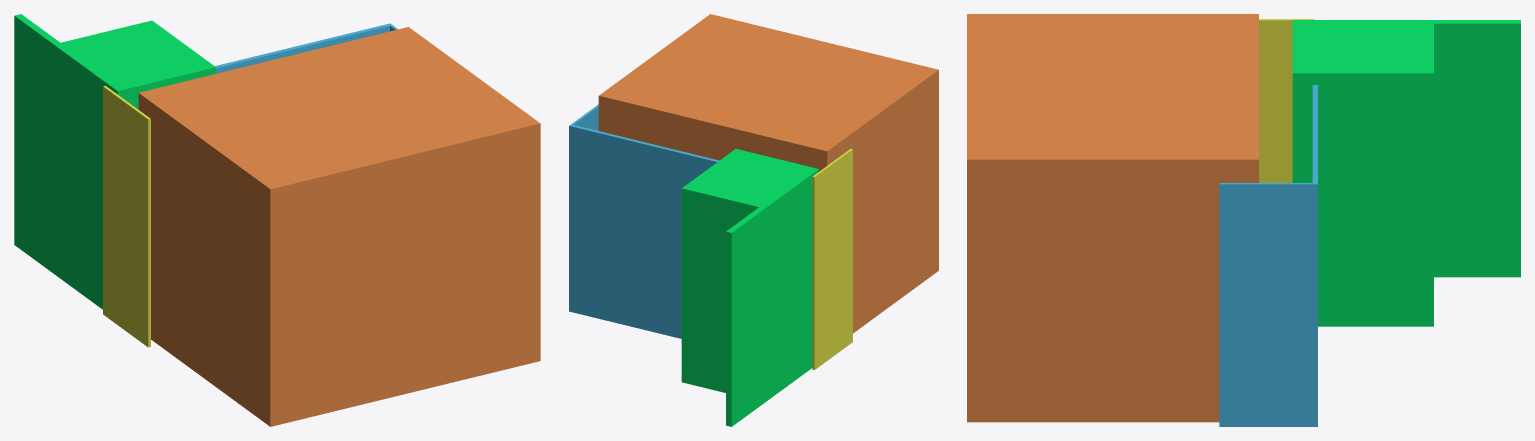
File: profileDraco.gltf
3 views of the same model, side by side, from view 1: azimuth 30°, elevation 25°; view 2: azimuth 150°, elevation 25°; view 3: azimuth 270°, elevation 25° (orthographic). The views are drawn at different scales.
Visible parts, largest first — view 1: Plane.003, Plane.001, Plane.002, Plane.004; view 2: Plane.003, Plane.001, Plane.004, Plane.002; view 3: Plane.003, Plane.001, Plane.004, Plane.002.
Boxes of the visible parts, bbox=[...] form: Plane.003: bbox=[138, 27, 540, 426]; Plane.001: bbox=[14, 14, 215, 309]; Plane.002: bbox=[103, 85, 150, 347]; Plane.004: bbox=[215, 23, 397, 73]; Plane.003: bbox=[598, 14, 938, 333]; Plane.001: bbox=[681, 149, 818, 426]; Plane.004: bbox=[569, 104, 719, 338]; Plane.002: bbox=[812, 148, 852, 369]; Plane.003: bbox=[967, 14, 1258, 422]; Plane.001: bbox=[1292, 20, 1520, 326]; Plane.004: bbox=[1219, 85, 1317, 426]; Plane.002: bbox=[1259, 19, 1314, 182].
Size of the model in its own units: 2.19 by 1.73 by 3.3.
